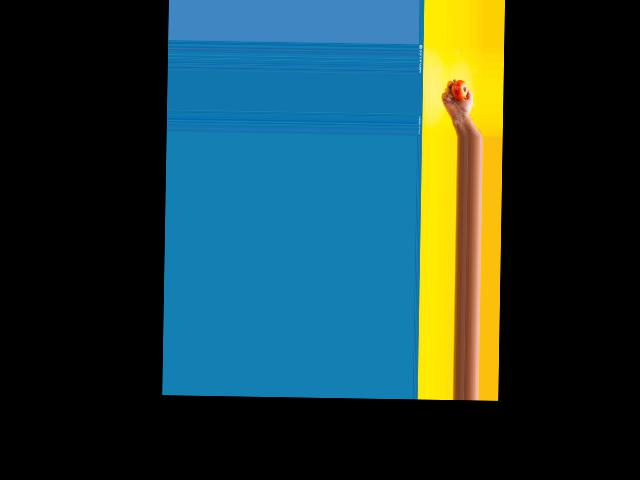tomato: (450, 80, 467, 99)
